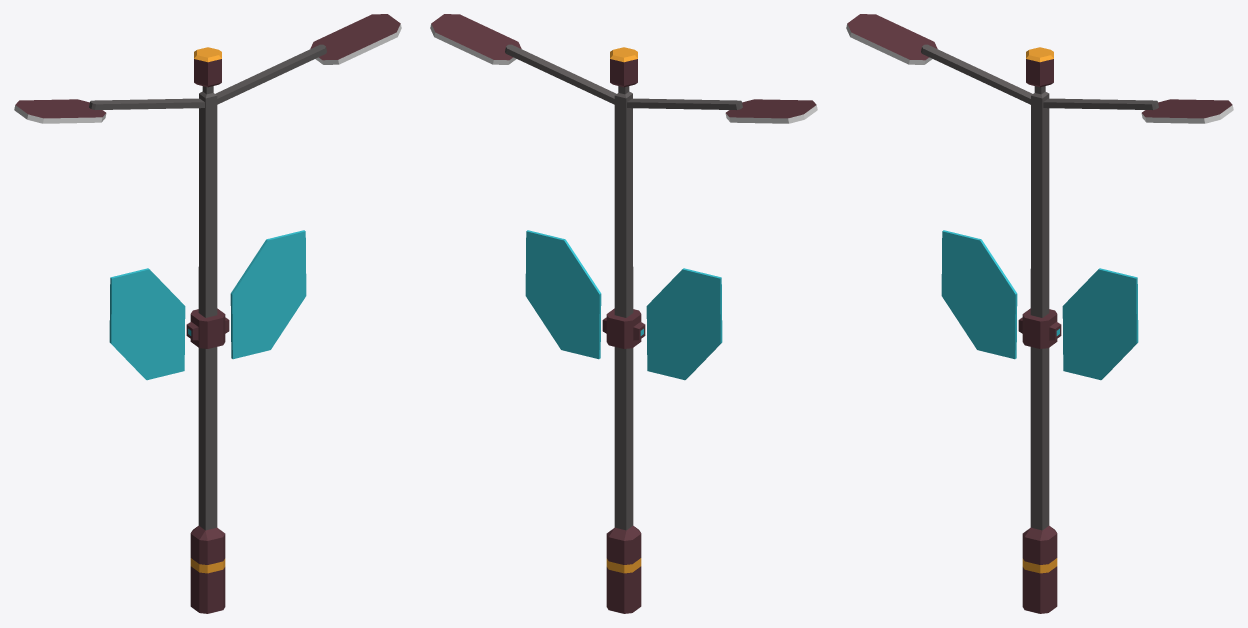
File: scifi-lamp-road-double-hologram.fbx
3 views of the same model, side by side, from view 1: azimuth 30°, elevation 25°; view 2: azimuth 150°, elevation 25°; view 3: azimuth 330°, elevation 25° (orthographic).
Parts seen in each view (by area): view 1: scifi-lamp-road-double-hologram; view 2: scifi-lamp-road-double-hologram; view 3: scifi-lamp-road-double-hologram.
Part boxes in pixels (<box>): scifi-lamp-road-double-hologram: <box>14,14,401,613</box>; scifi-lamp-road-double-hologram: <box>430,14,817,613</box>; scifi-lamp-road-double-hologram: <box>846,14,1233,613</box>.
Size of the model in its own units: 6.75 by 9.55 by 0.7694.
